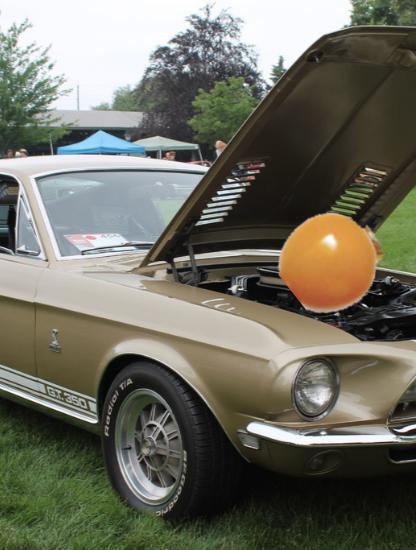Physalis: (281, 209, 385, 313)
